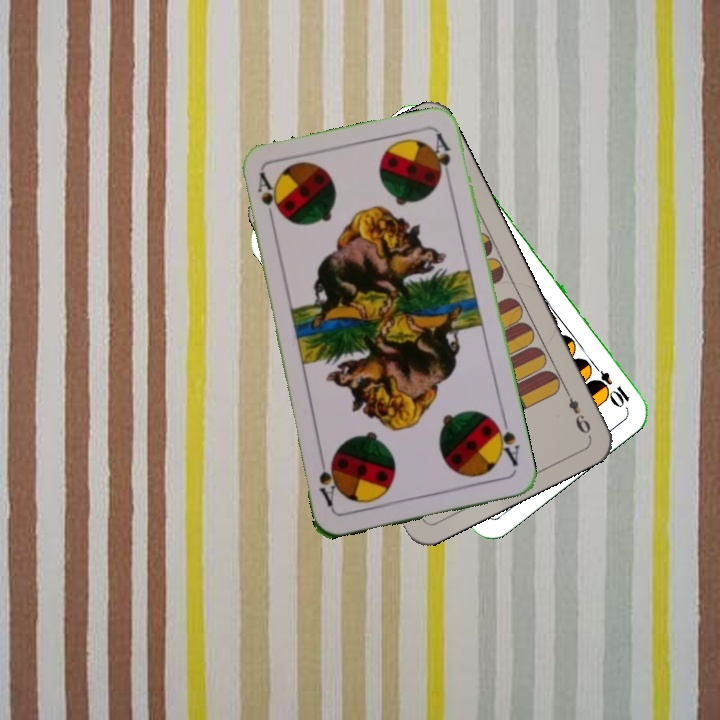E10: (586, 358, 633, 410)
E9: (560, 383, 594, 439)
SA: (489, 413, 522, 469), (253, 169, 281, 228)
